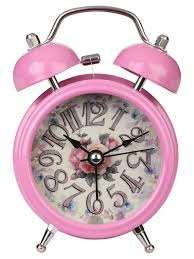alarm_clock: (8, 4, 183, 254)
